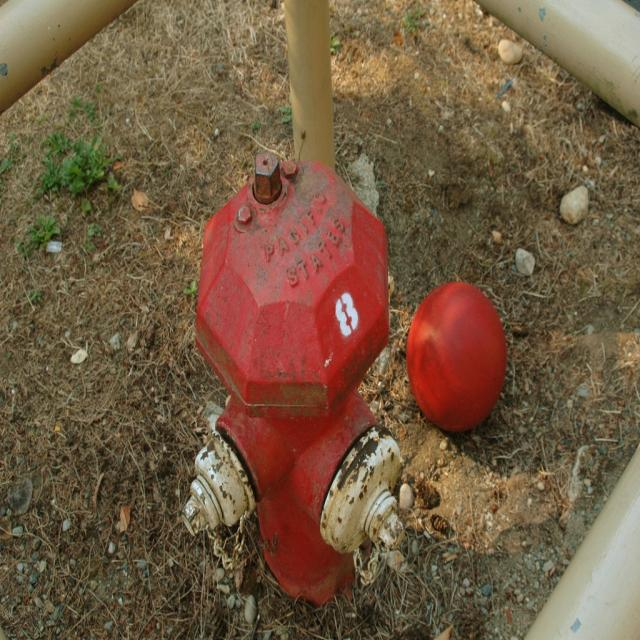fire_hydrant: (184, 149, 406, 608)
